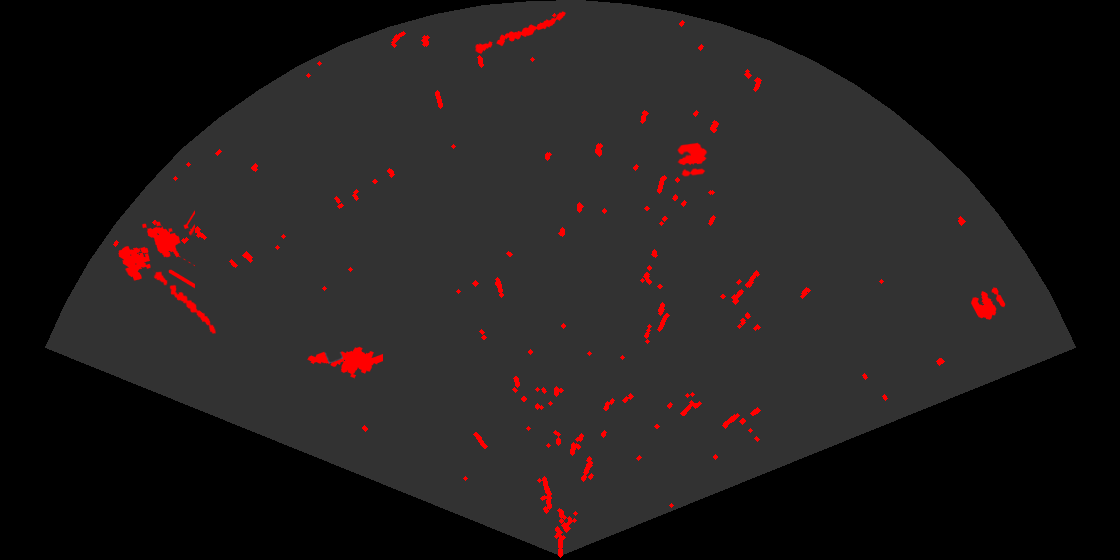ball: (969, 286, 1007, 321), (676, 141, 709, 178)
cage: (117, 209, 195, 290)
chain: (147, 263, 218, 336), (473, 10, 568, 55)
frogman: (306, 345, 383, 380)
